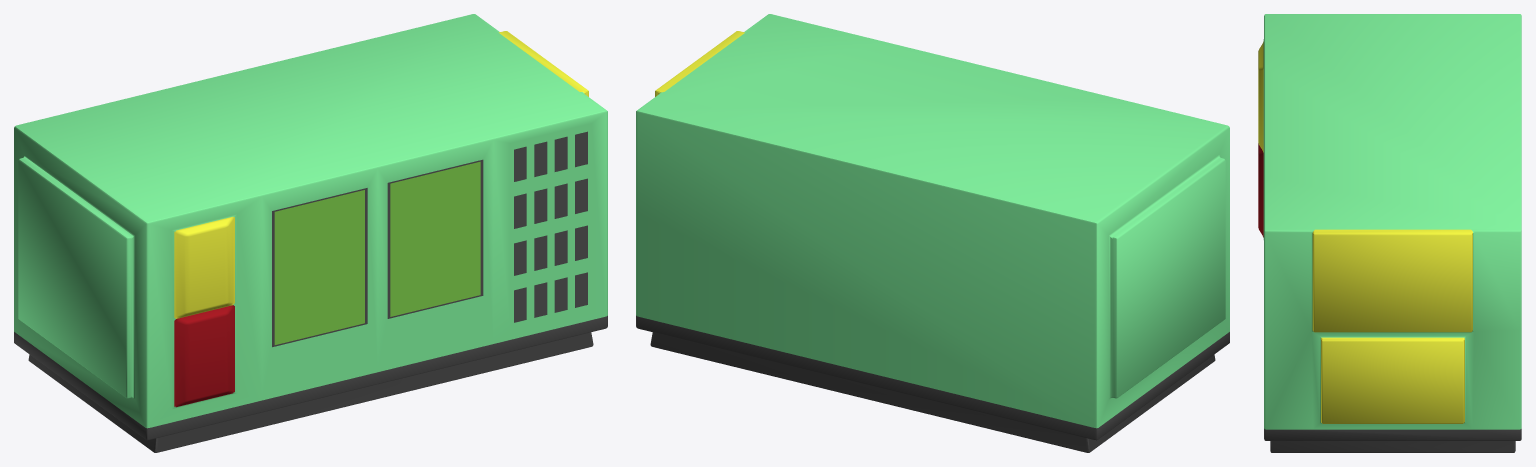
The model's file is Props_Generator.fbx.
3 views of the same model, side by side, from view 1: azimuth 30°, elevation 25°; view 2: azimuth 150°, elevation 25°; view 3: azimuth 270°, elevation 25° (orthographic). The views are drawn at different scales.
Visible parts, largest first — view 1: Props_Generator; view 2: Props_Generator; view 3: Props_Generator.
Boxes of the visible parts, left/top/right/bottom form: Props_Generator: left=14, top=14, right=607, bottom=452; Props_Generator: left=636, top=14, right=1229, bottom=452; Props_Generator: left=1258, top=14, right=1521, bottom=452.
Size of the model in its own units: 412 by 195 by 205.
